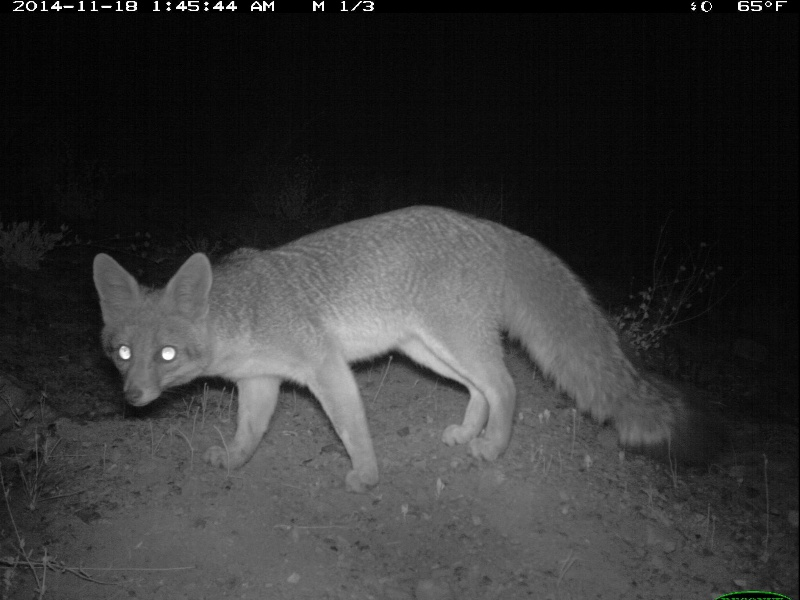fox: (92, 201, 720, 505)
